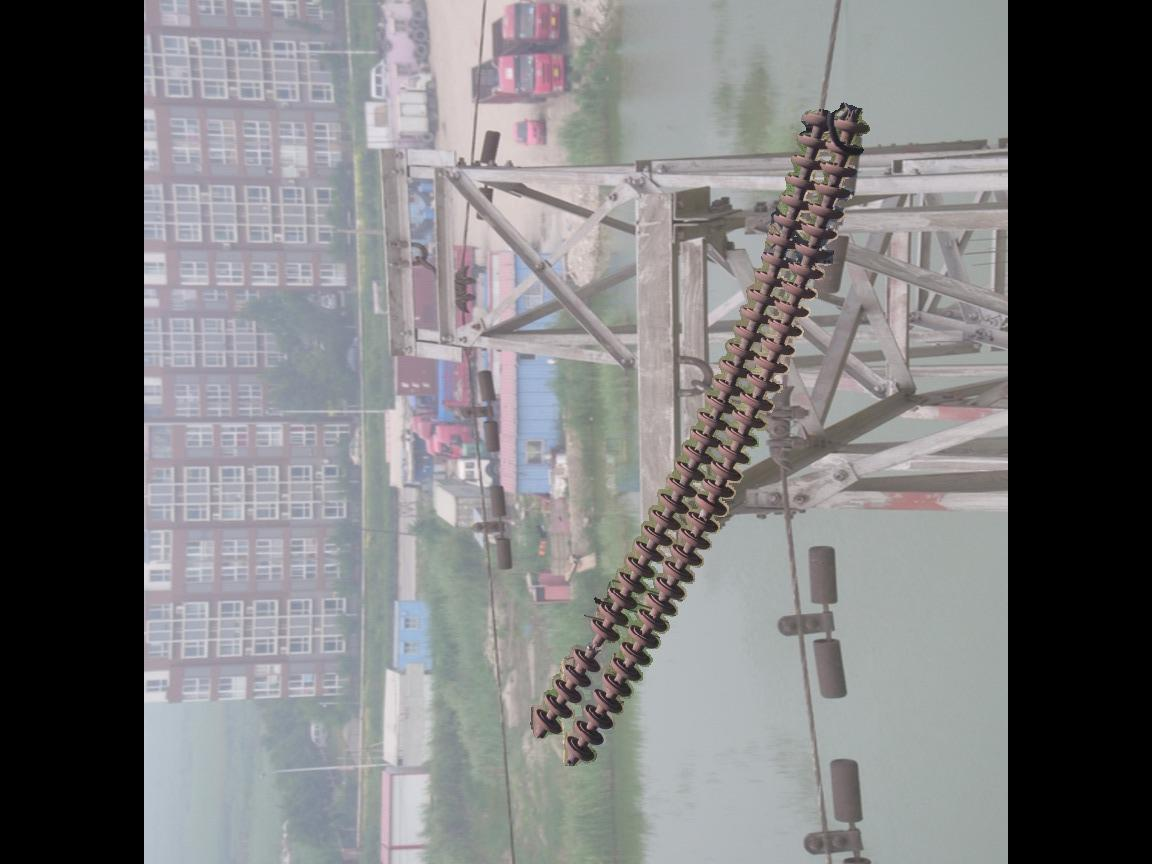insulator: (527, 101, 872, 768)
insulator_stringdrop: (570, 615, 620, 674)
